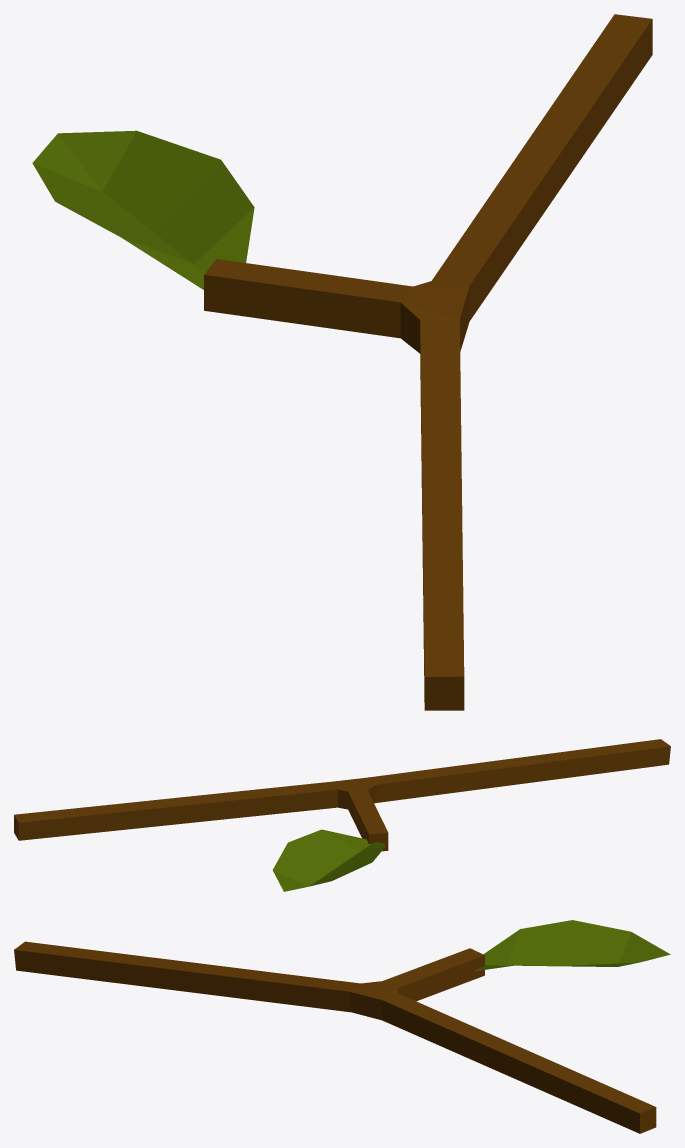
File: LowPolyBranch1.fbx
3 views of the same model, one above another, from view 1: azimuth 30°, elevation 25°; view 2: azimuth 150°, elevation 25°; view 3: azimuth 270°, elevation 25° (orthographic). The views are drawn at different scales.
Parts seen in each view (by area): view 1: Plane.003, Plane.004; view 2: Plane.003, Plane.004; view 3: Plane.003, Plane.004.
Part boxes in pixels (bbox=[...]): Plane.003: bbox=[204, 14, 652, 710]; Plane.004: bbox=[32, 130, 254, 289]; Plane.003: bbox=[14, 739, 670, 851]; Plane.004: bbox=[272, 829, 385, 891]; Plane.003: bbox=[14, 941, 656, 1133]; Plane.004: bbox=[475, 920, 670, 971].
Bounding box in the file's own units: 0.5235 × 0.6822 × 0.084.
